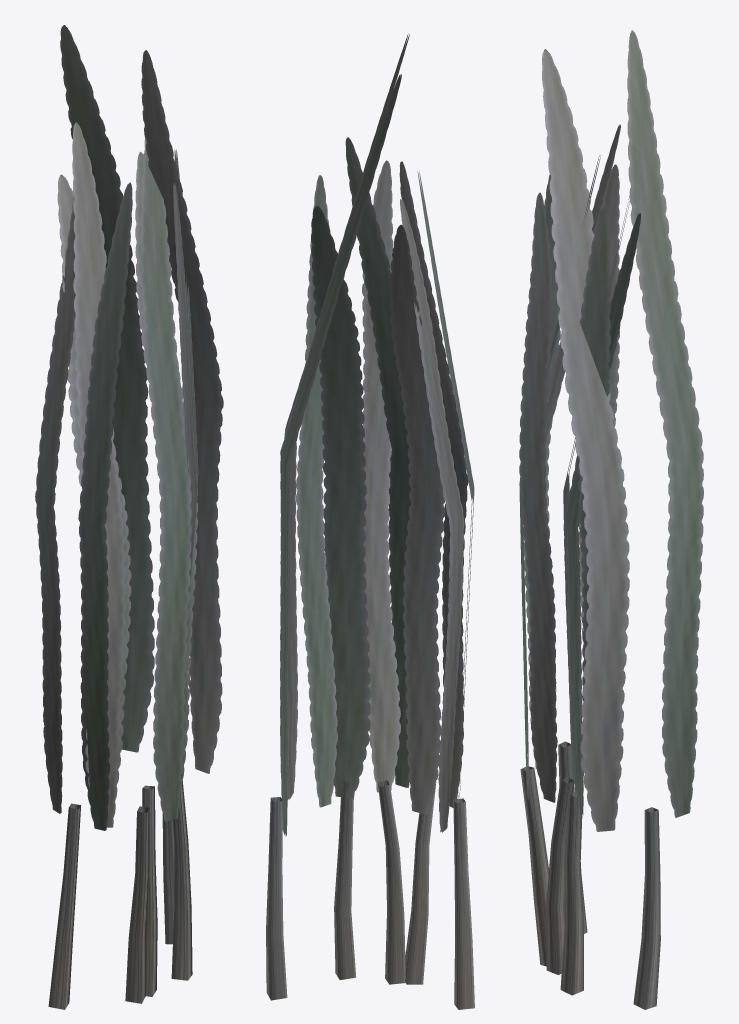
File: kelp_short_l1.gltf
3 renders of one model, left to right at view 1: azimuth 30°, elevation 25°; view 2: azimuth 150°, elevation 25°; view 3: azimuth 270°, elevation 25°, orthographic. The views are drawn at different scales.
Visible parts, largest first — view 1: kelp_short_l1; view 2: kelp_short_l1; view 3: kelp_short_l1.
Boxes of the visible parts, bbox=[...] form: kelp_short_l1: bbox=[35, 25, 223, 1009]; kelp_short_l1: bbox=[266, 34, 474, 1009]; kelp_short_l1: bbox=[519, 30, 703, 1009].
Bounding box in the file's own units: 0.5228 × 2.62 × 0.5641.
1 material, 1 textured.
